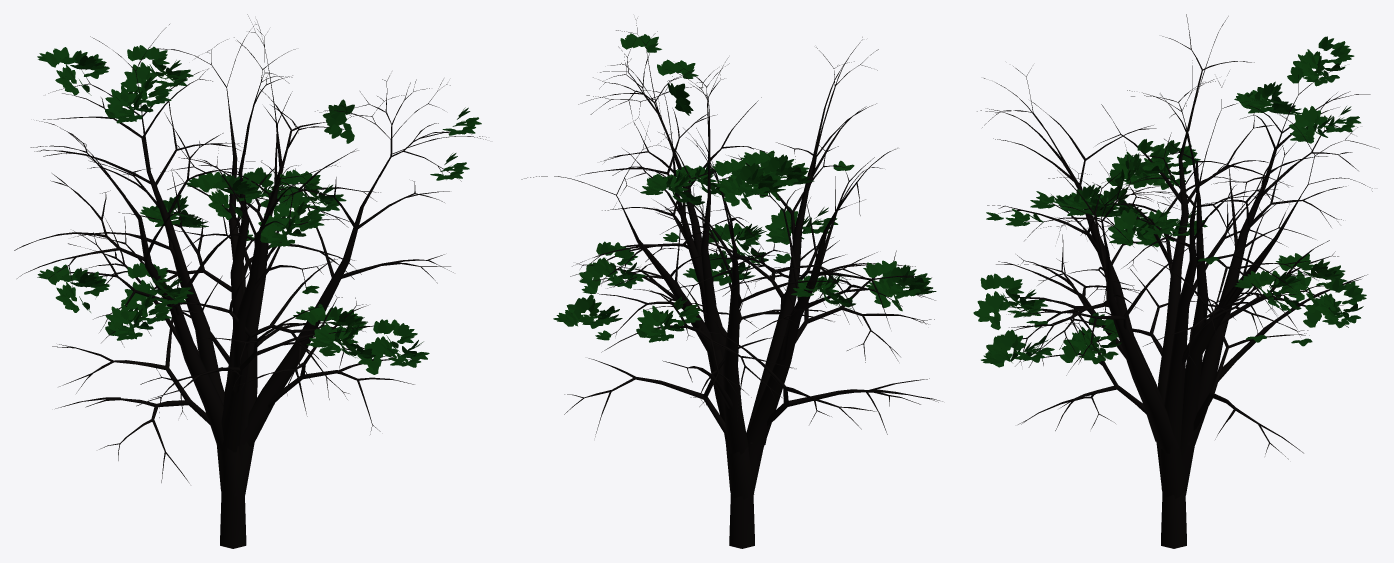
File: tree.obj
3 views of the same model, side by side, from view 1: azimuth 30°, elevation 25°; view 2: azimuth 150°, elevation 25°; view 3: azimuth 270°, elevation 25° (orthographic). The views are drawn at different scales.
Visible parts, largest first — view 1: tree_tree.002; view 2: tree_tree.002; view 3: tree_tree.002.
Part boxes in pixels (<box>): tree_tree.002: <box>14,14,486,548</box>; tree_tree.002: <box>521,18,942,548</box>; tree_tree.002: <box>973,14,1379,548</box>.
Size of the model in its own units: 13.14 by 16.02 by 11.95.
